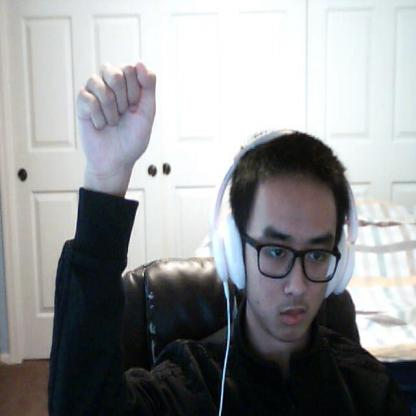fist: (76, 61, 158, 164)
